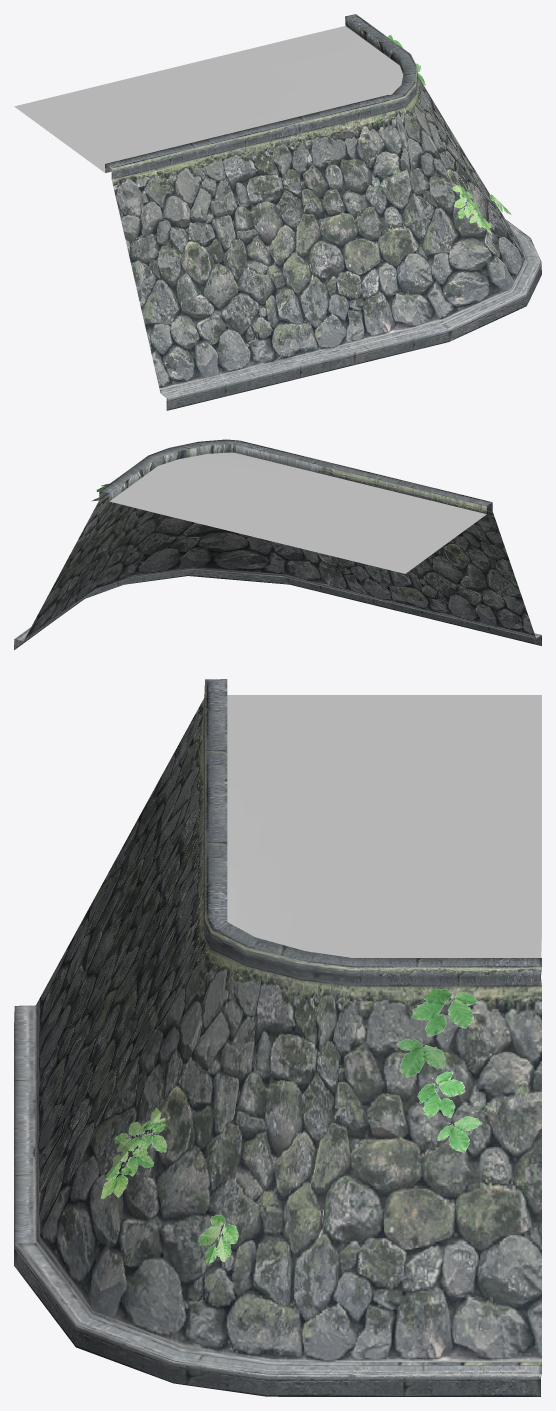
The model's file is WALL Slanted Corner B.fbx.
3 views of the same model, one above another, from view 1: azimuth 30°, elevation 25°; view 2: azimuth 150°, elevation 25°; view 3: azimuth 270°, elevation 25° (orthographic). The views are drawn at different scales.
Visible parts, largest first — view 1: WALL Slanted Corner B; view 2: WALL Slanted Corner B; view 3: WALL Slanted Corner B.
Boxes of the visible parts, x1,y1,x2,y2 form: WALL Slanted Corner B: (14, 14, 541, 410); WALL Slanted Corner B: (14, 439, 541, 649); WALL Slanted Corner B: (14, 679, 541, 1396).
Size of the model in its own units: 698 by 308 by 422.
